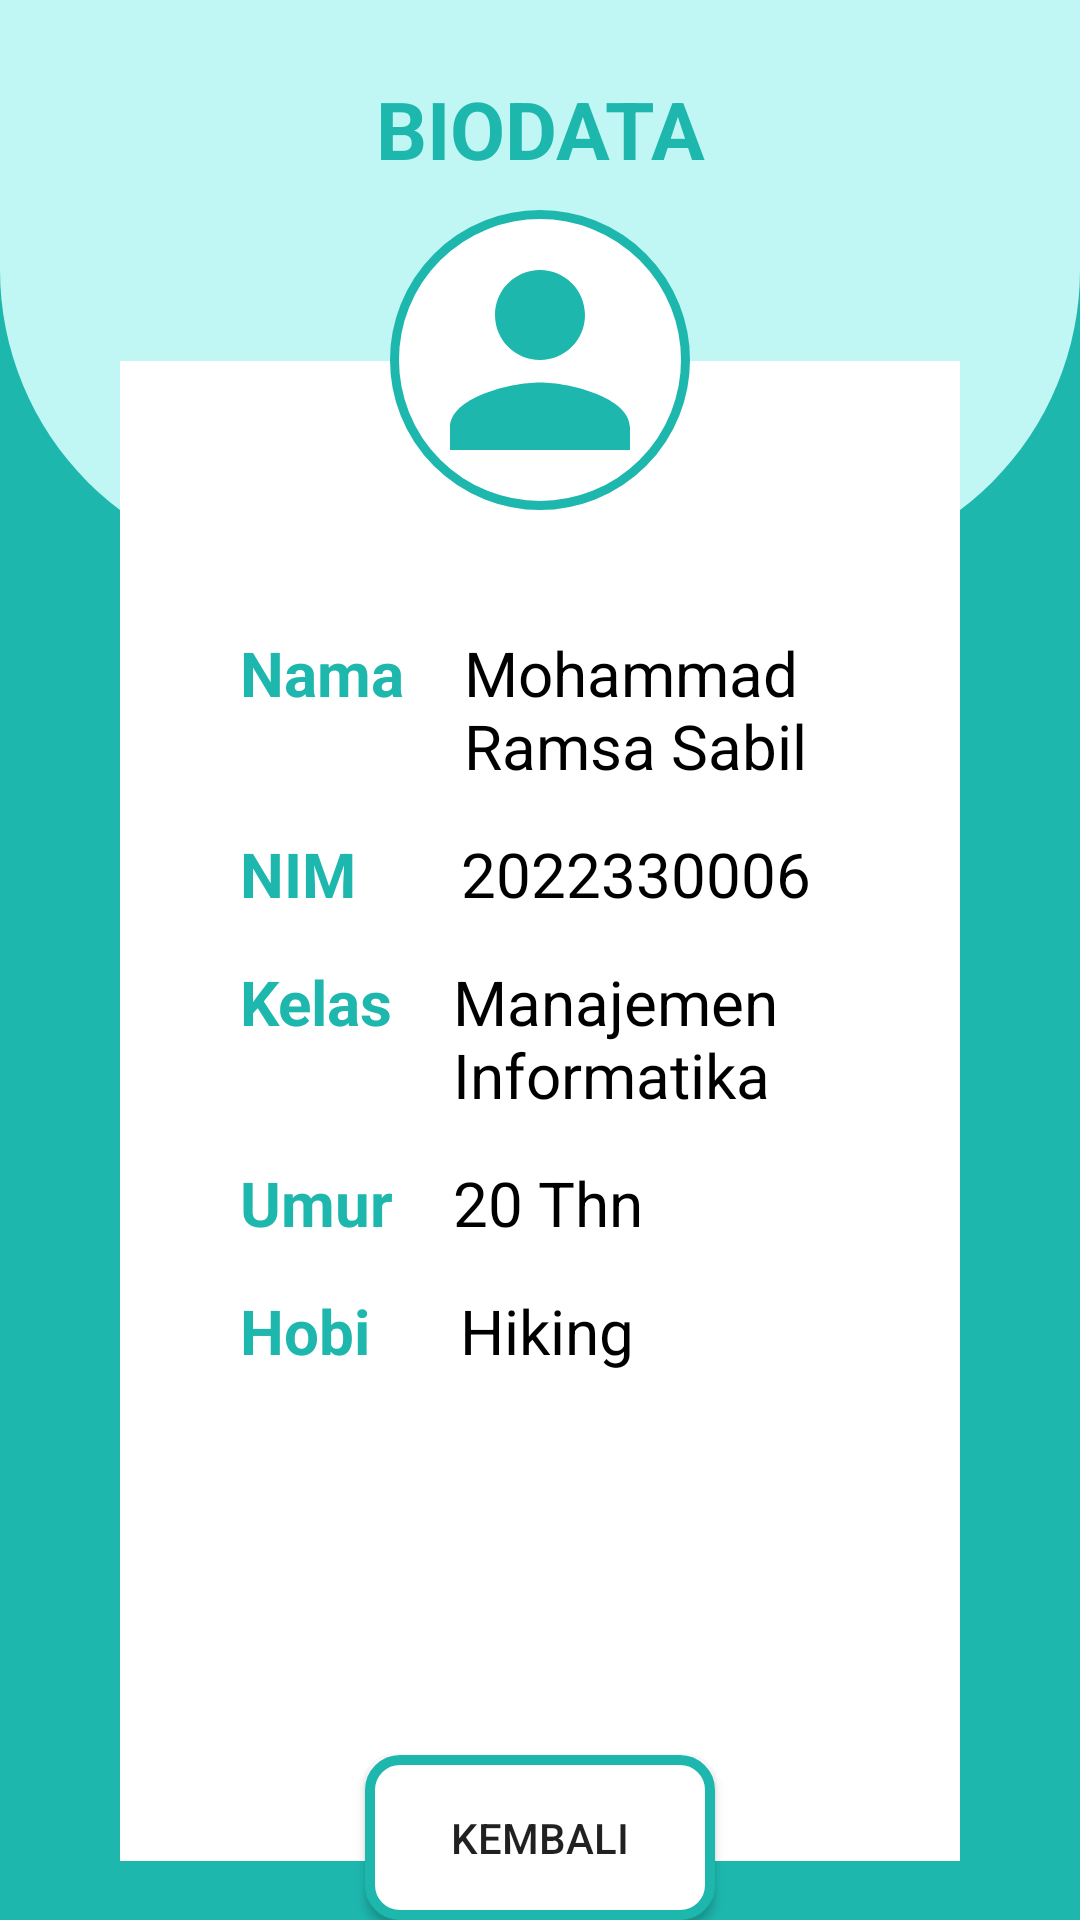

Named icons in this screenshot (1080 x 1920) and their centers, point (x, y):
person: point (540, 360)
